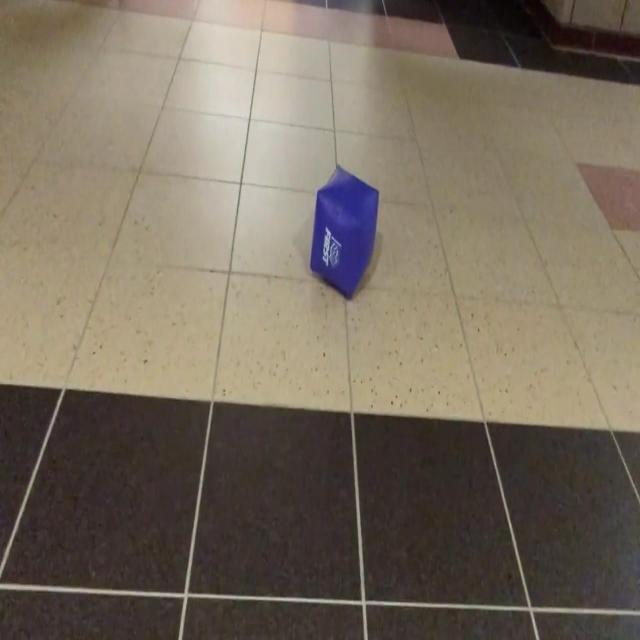frc_cube: (309, 164, 379, 300)
